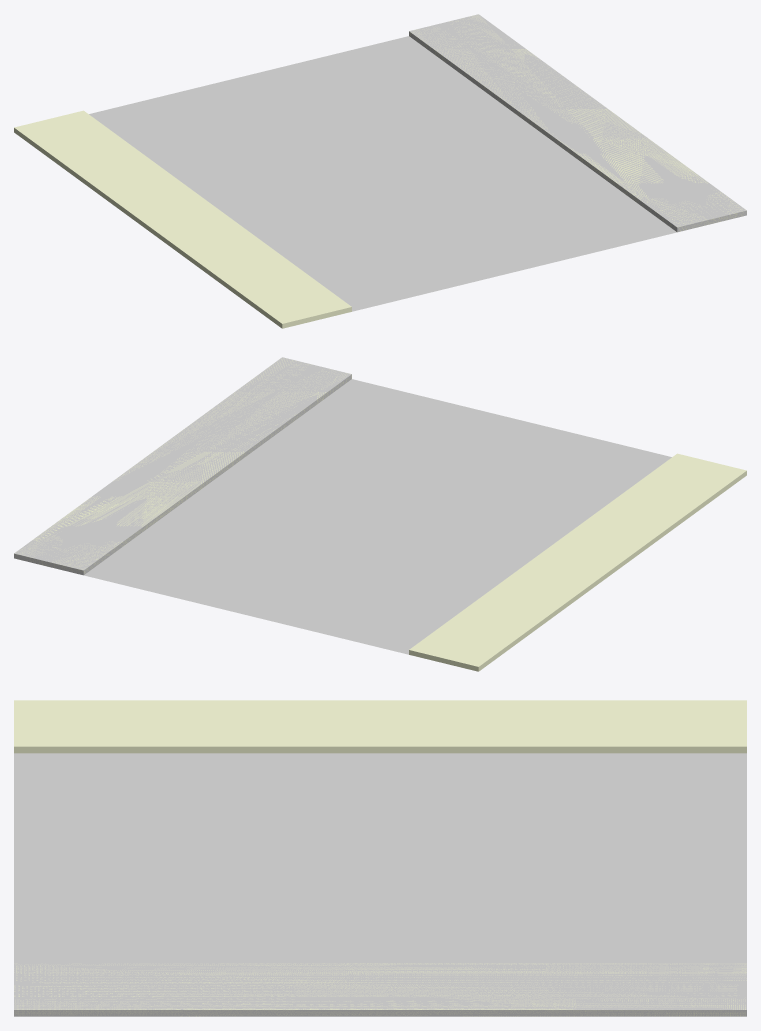
Rendered from straightRoadTile.dae.
3 renders of one model, top to bottom at view 1: azimuth 30°, elevation 25°; view 2: azimuth 150°, elevation 25°; view 3: azimuth 270°, elevation 25°, orthographic. The views are drawn at different scales.
Visible parts, largest first — view 1: SketchUp (×3); view 2: SketchUp (×3); view 3: SketchUp (×3).
Part boxes in pixels (<box>): SketchUp (×3): <box>14,14,746,328</box>; SketchUp (×3): <box>14,357,746,671</box>; SketchUp (×3): <box>14,700,746,1016</box>.
Bounding box in the file's own units: 1200 × 1200 × 12.
